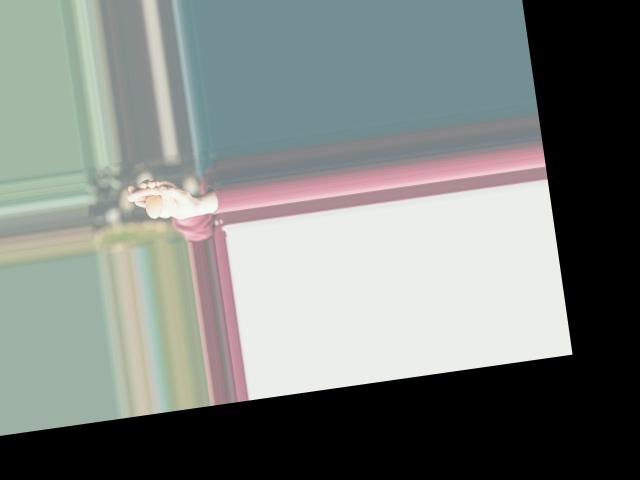egg: (144, 193, 165, 219)
